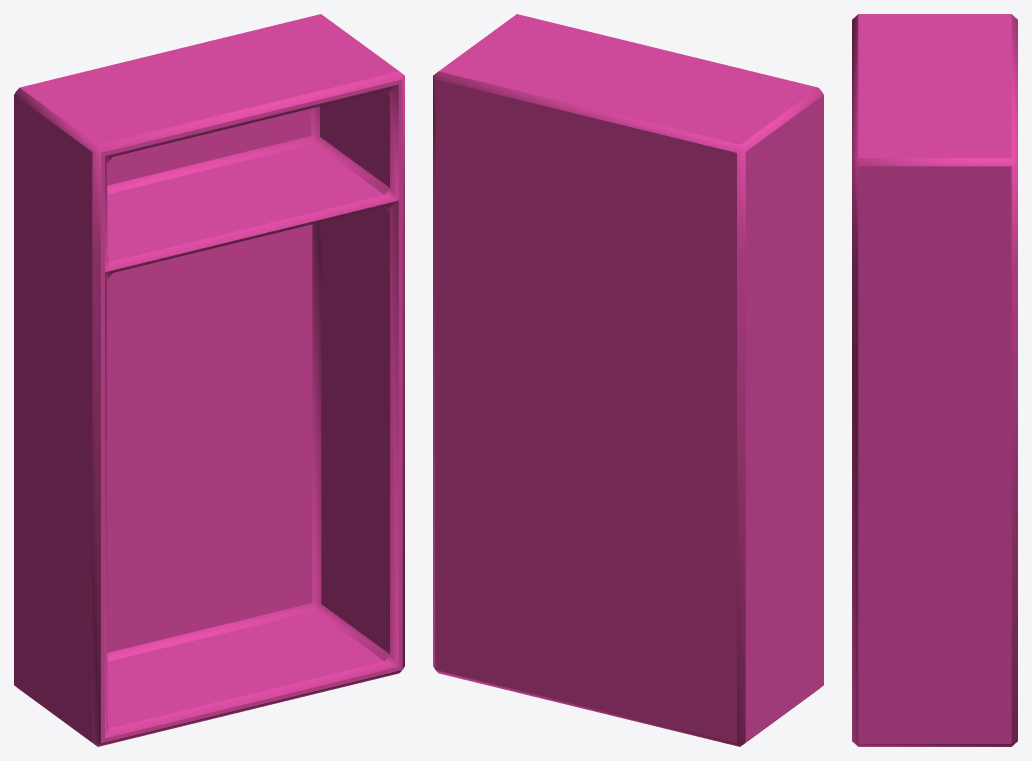
File: armario_ropa.fbx
3 views of the same model, side by side, from view 1: azimuth 30°, elevation 25°; view 2: azimuth 150°, elevation 25°; view 3: azimuth 270°, elevation 25° (orthographic). The views are drawn at different scales.
Visible parts, largest first — view 1: Cube.002; view 2: Cube.002; view 3: Cube.002.
Part boxes in pixels (<box>): Cube.002: <box>14,14,404,746</box>; Cube.002: <box>433,14,823,746</box>; Cube.002: <box>852,14,1017,746</box>.
Size of the model in its own units: 135 by 249 by 63.36.
